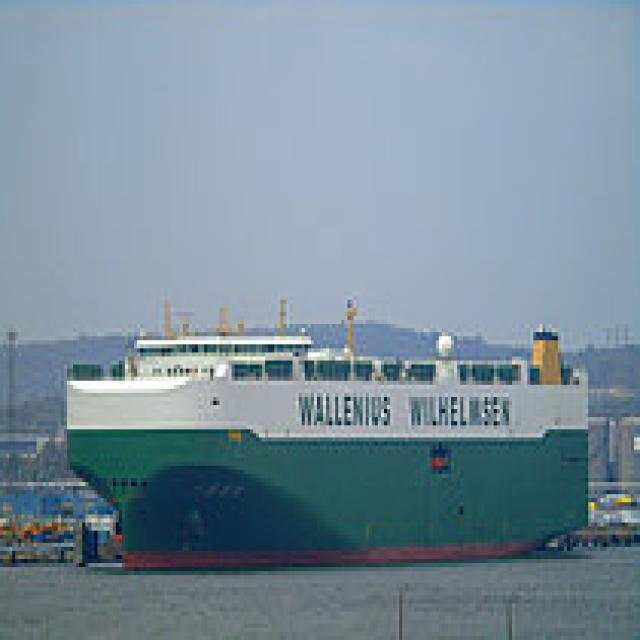Carrier: (58, 320, 588, 571)
